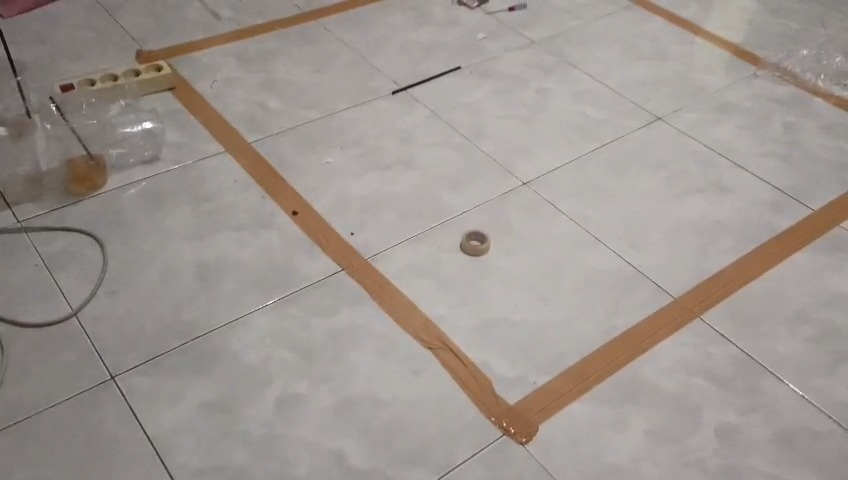floor marking: (174, 80, 847, 444), (628, 0, 847, 111), (137, 0, 380, 60)
